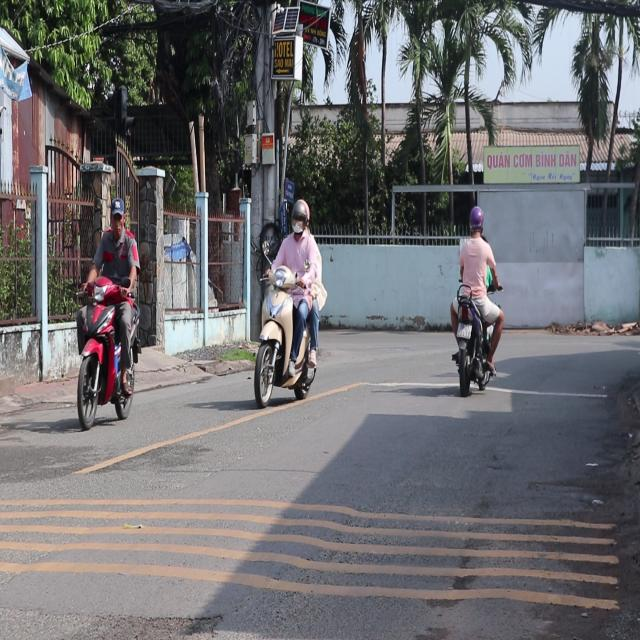helmet: (289, 198, 310, 236), (467, 204, 483, 237)
licenseplate: (72, 194, 142, 430), (252, 195, 326, 408), (448, 205, 503, 394)
motorcyclist: (108, 196, 125, 232)
nohelmet: (457, 323, 471, 337)
